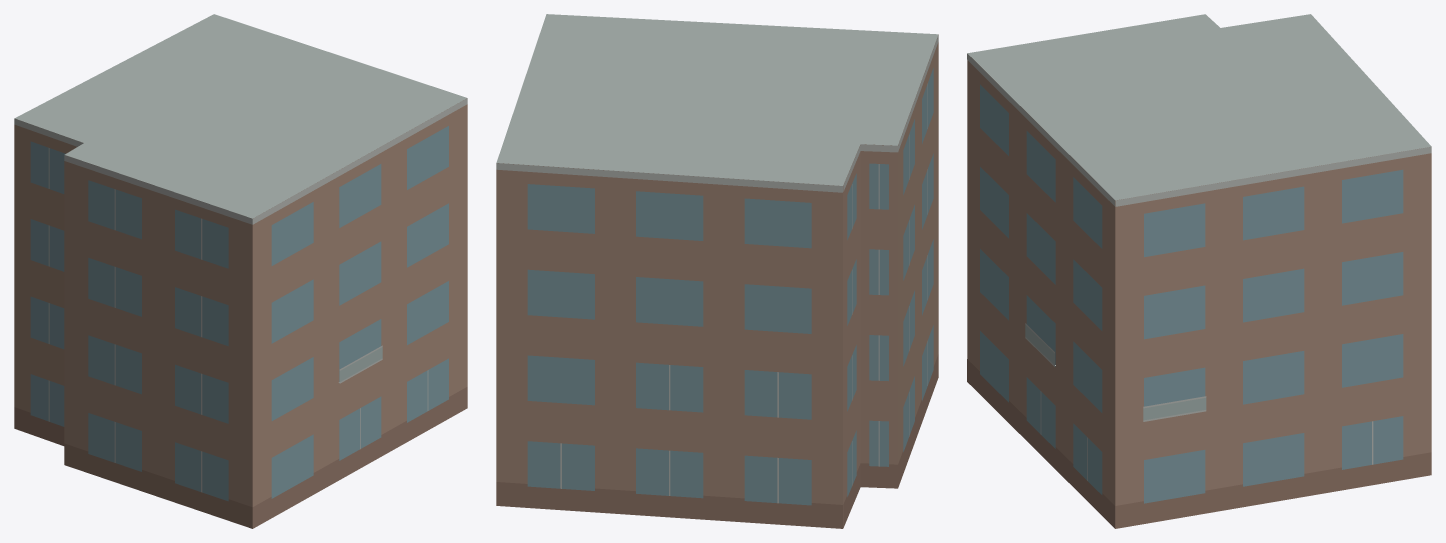
The model's file is survey-upis-32845483.glb.
The picture shows the model from 3 angles, left to right: view 1: azimuth 30°, elevation 25°; view 2: azimuth 150°, elevation 25°; view 3: azimuth 270°, elevation 25°; orthographic projection. The views are drawn at different scales.
Visible parts, largest first — view 1: survey-upis-32845483.tmp; view 2: survey-upis-32845483.tmp; view 3: survey-upis-32845483.tmp.
Boxes of the visible parts, box(x1,y1,x2,y2) form: survey-upis-32845483.tmp: box(14, 14, 467, 528); survey-upis-32845483.tmp: box(496, 14, 938, 528); survey-upis-32845483.tmp: box(967, 14, 1431, 528).
Bounding box in the file's own units: 14.98 × 12.3 × 15.77.
